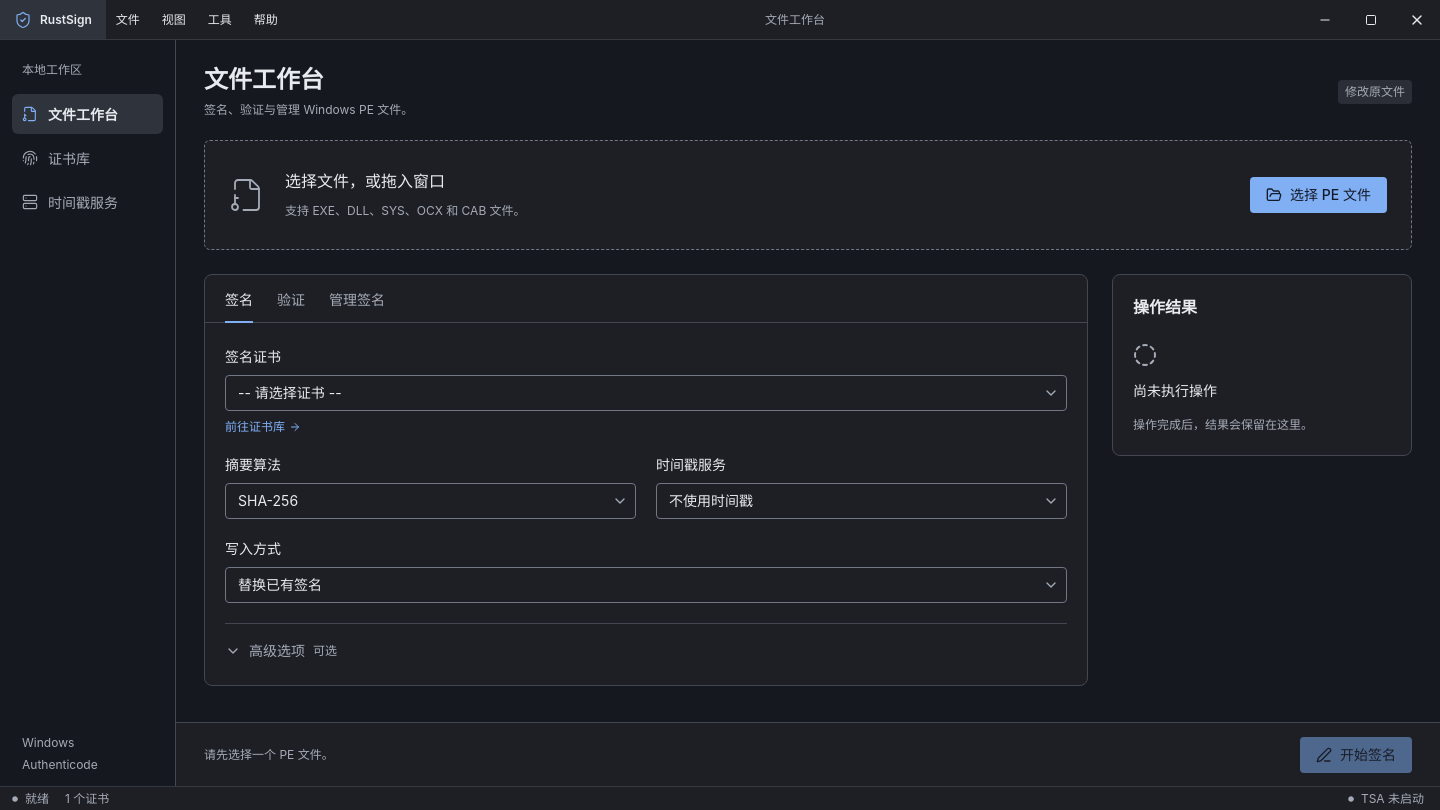
Test: workbench flows › requires destructive confirmation, focuses cancel, and restores focus
This screenshot has width=1440, height=810.
Click the button "选择 PE 文件". click: (1319, 195)
box: [1250, 177, 1387, 213]
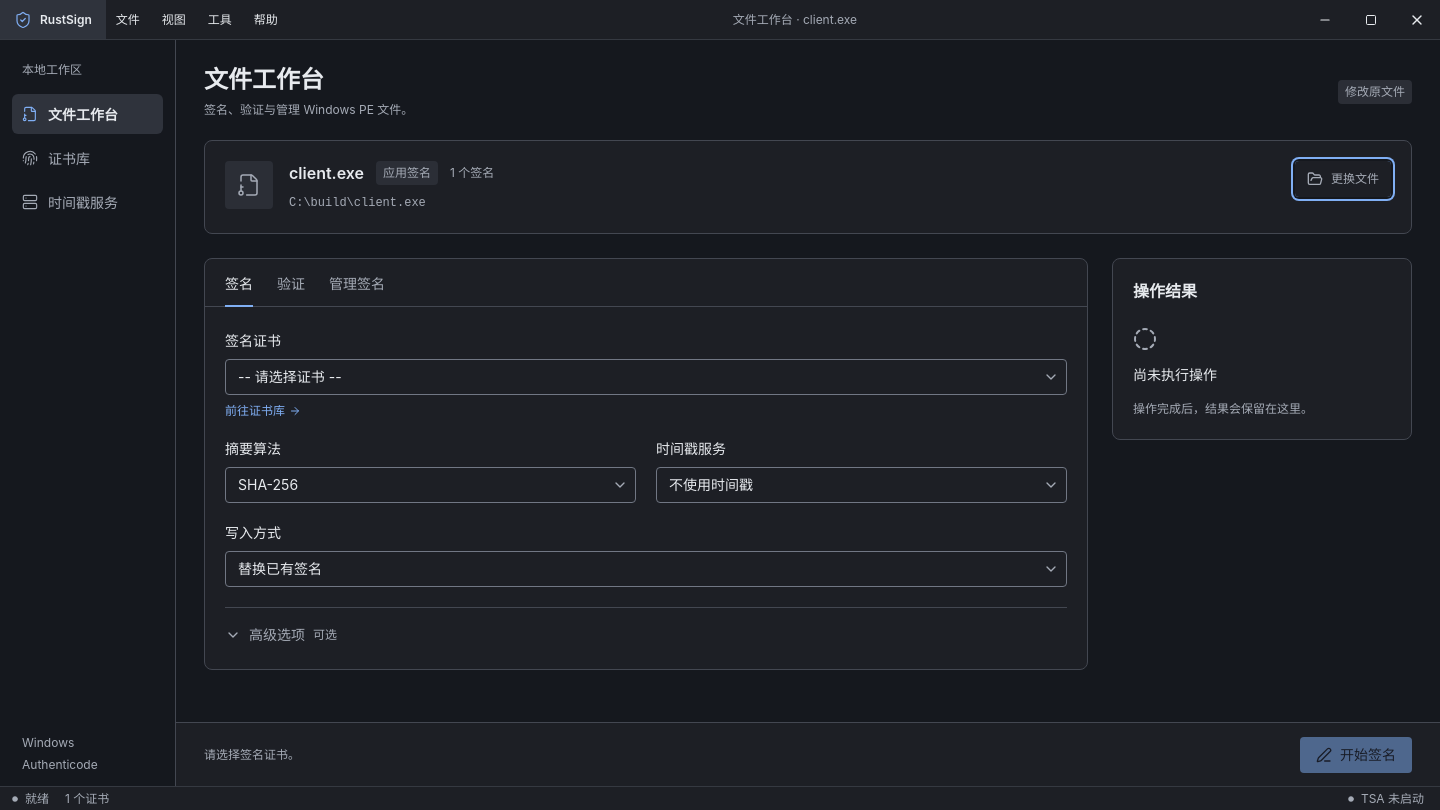
Select "Acme Software Signing · CDEF1234" in the dropdown labelled "签名证书". click: (646, 377)
box: [225, 359, 1067, 395]
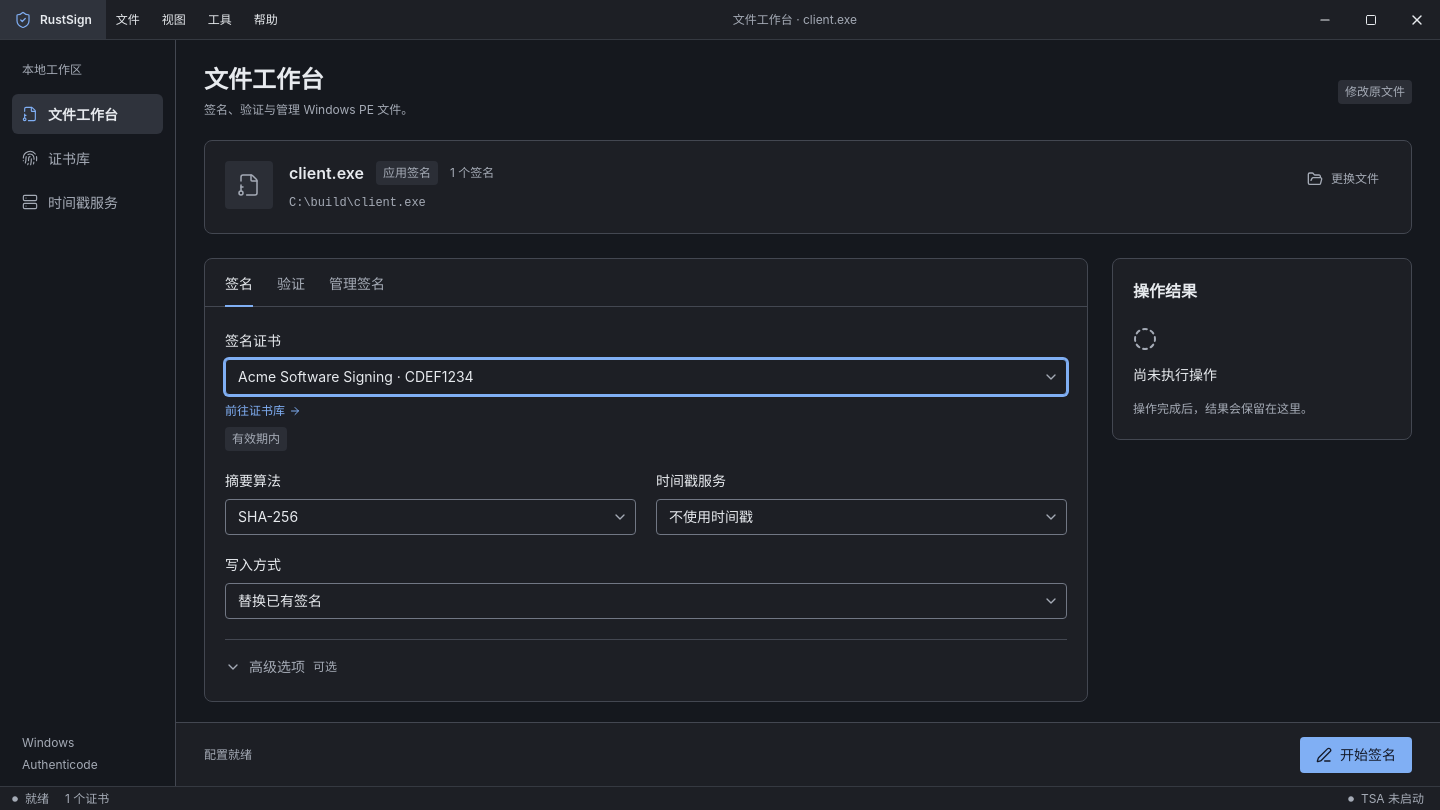
Expected: the button "开始签名" is enabled
Click the button "开始签名". click: (1356, 754)
box: [1300, 736, 1412, 772]
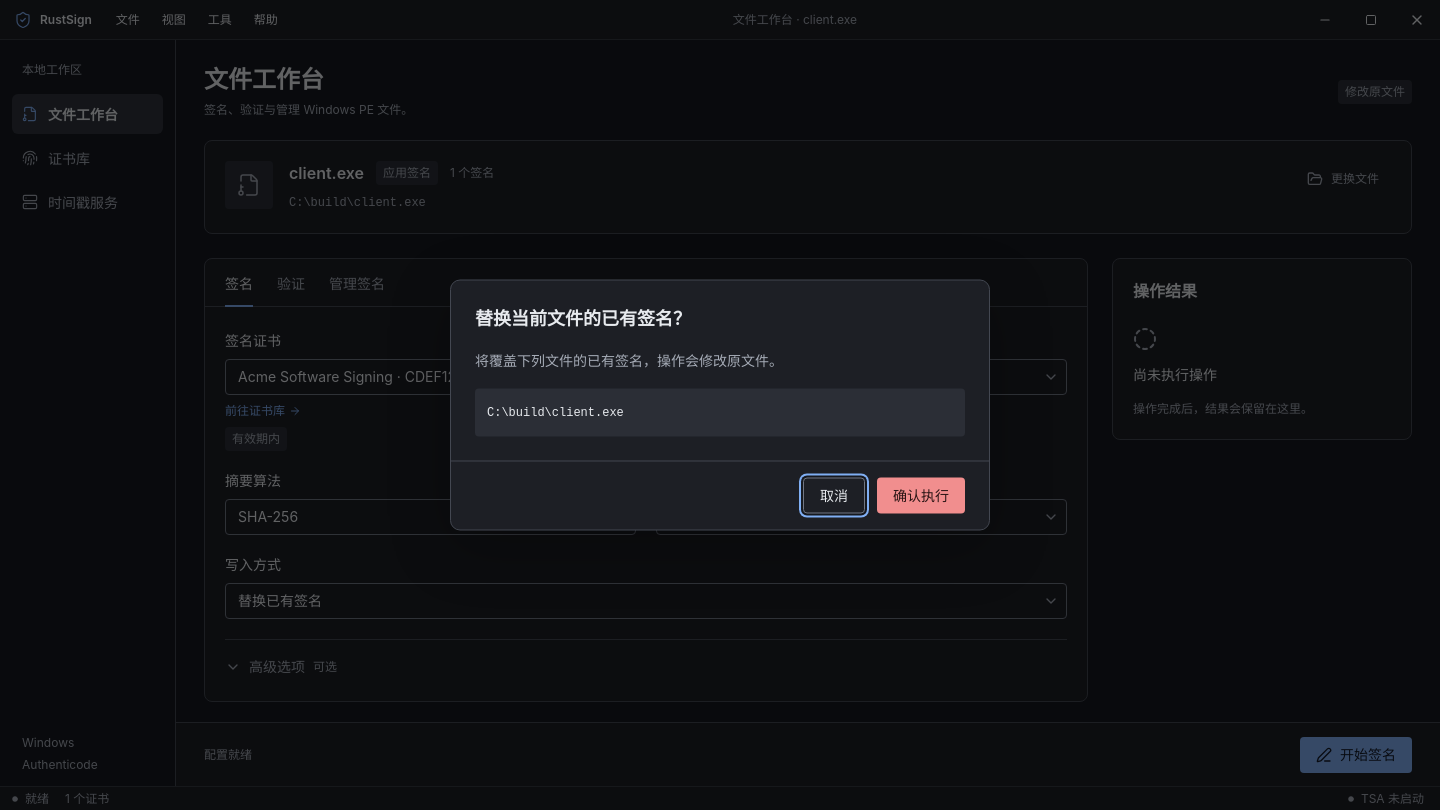
Click the button "取消". click: (834, 496)
box: [803, 478, 865, 514]
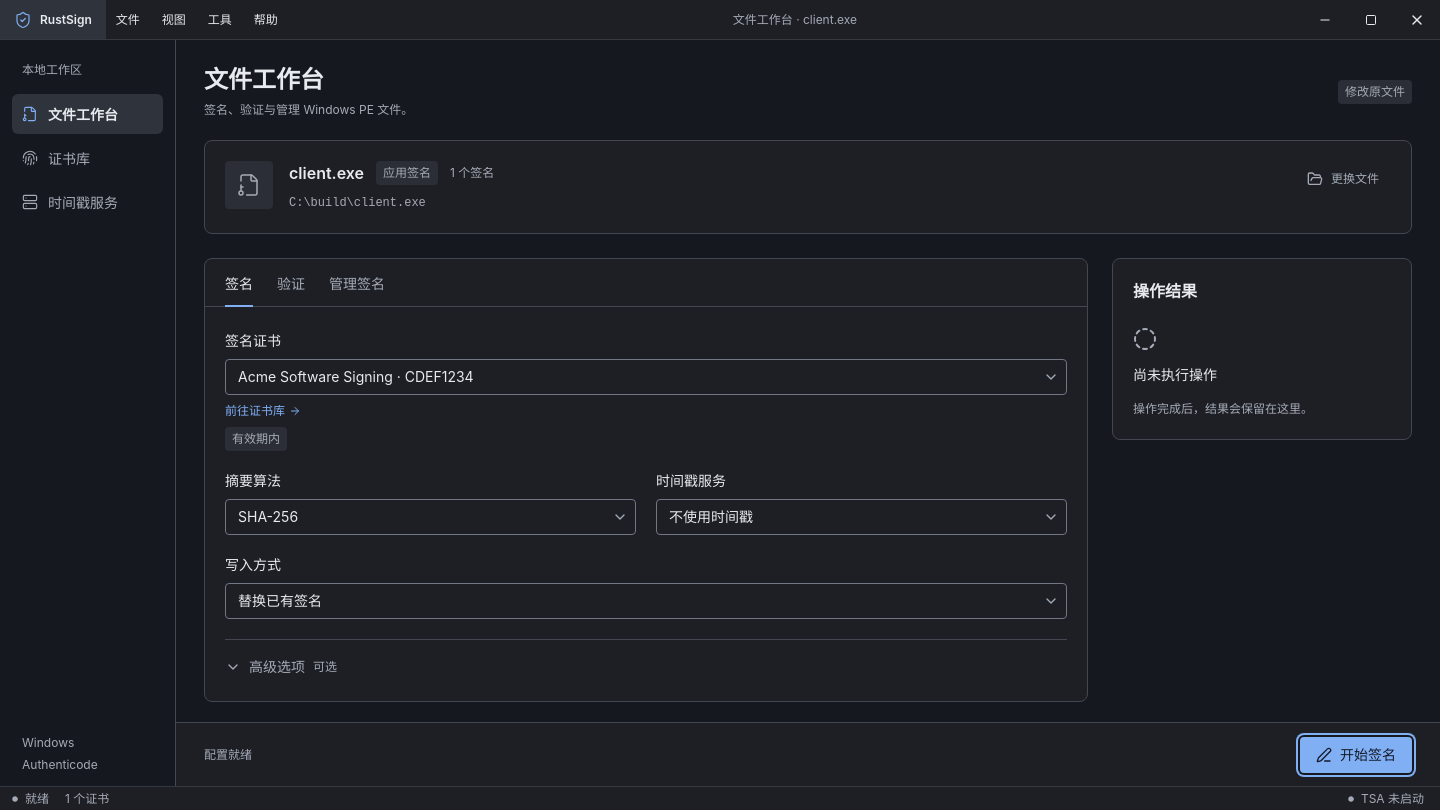
Click the button "开始签名". click: (1356, 754)
box: [1300, 736, 1412, 772]
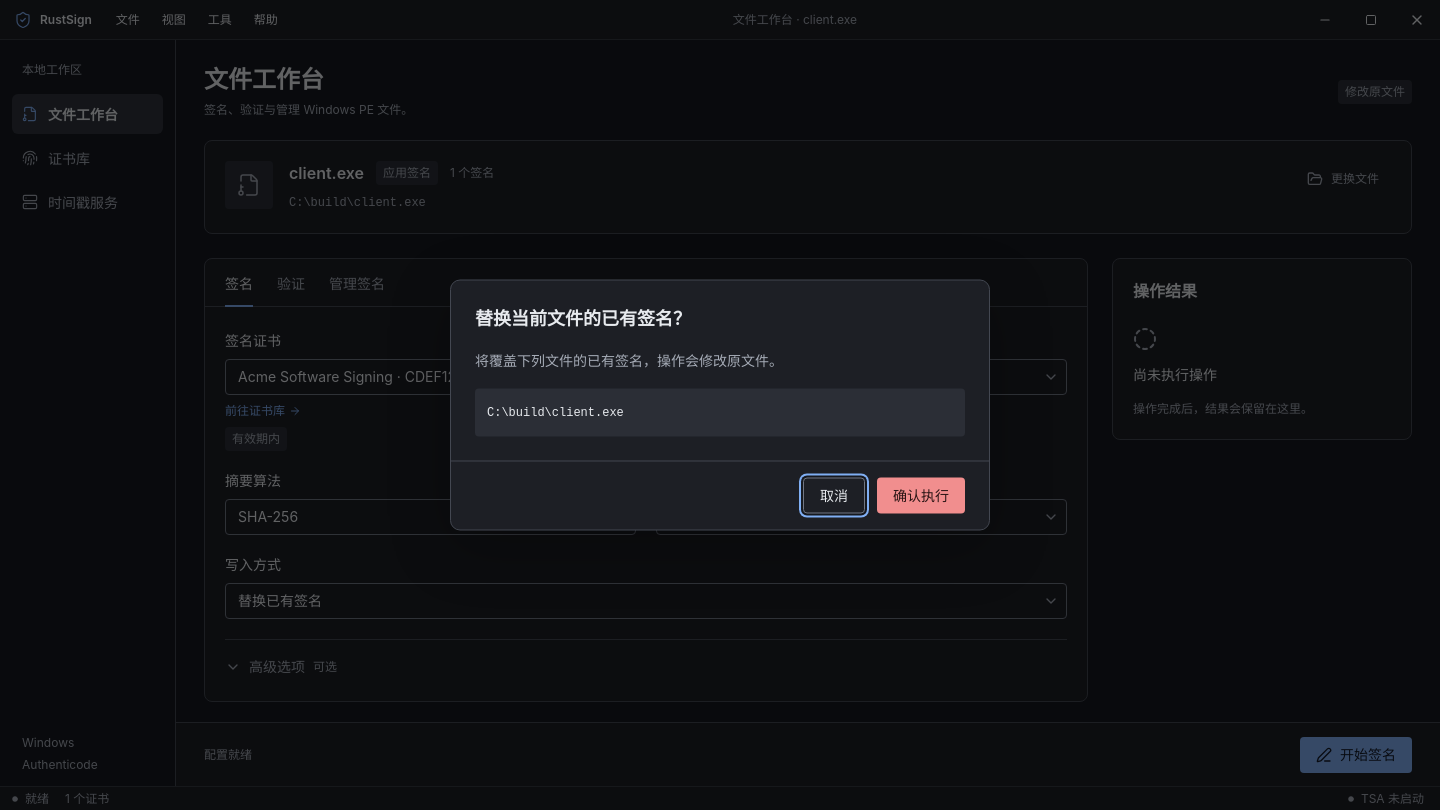
Click the button "确认执行". click: (921, 496)
box: [877, 478, 965, 514]
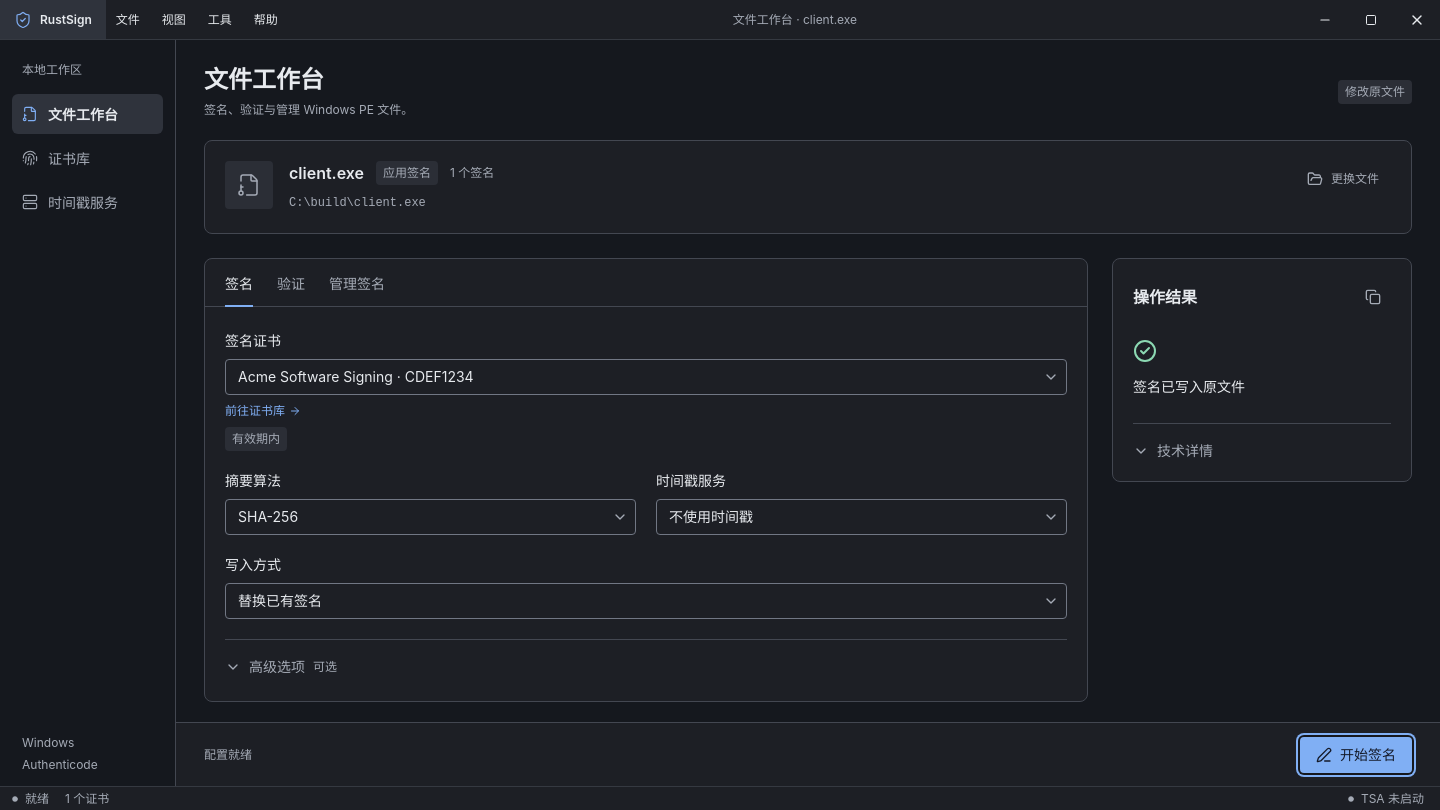
Expected: the message with class "result-announcement" reads "签名已写入原文件", [1133, 378, 1245, 395]
